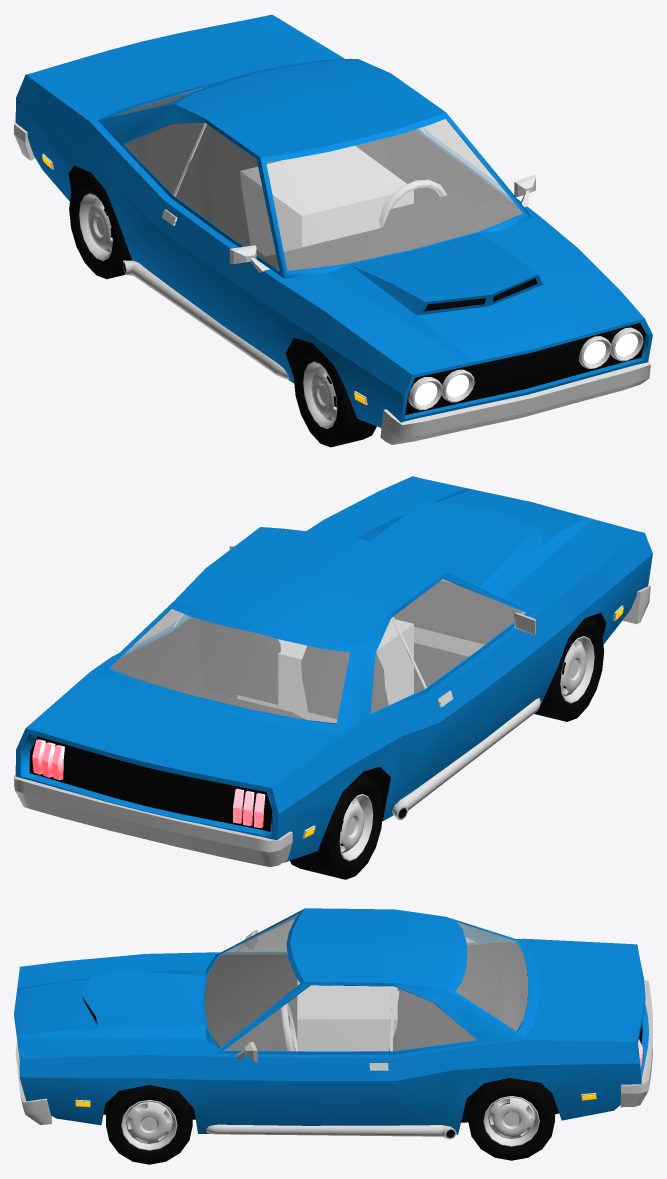
File: car_blue.glb
3 views of the same model, one above another, from view 1: azimuth 30°, elevation 25°; view 2: azimuth 150°, elevation 25°; view 3: azimuth 270°, elevation 25° (orthographic). The views are drawn at different scales.
Visible parts, largest first — view 1: Cube_0, Cube, Cube.001_3, Cube.005_6; view 2: Cube_0, Cube.005_6, Cube, Cube.001_3; view 3: Cube_0, Cube, Cube.002_4, Cube.004_5.
Boxes of the visible parts, x1,y1,x2,y2 form: Cube_0: [14, 14, 652, 444]; Cube: [240, 146, 413, 256]; Cube.001_3: [293, 343, 376, 447]; Cube.005_6: [69, 173, 132, 279]; Cube_0: [14, 476, 652, 866]; Cube.005_6: [290, 774, 383, 879]; Cube: [237, 618, 413, 722]; Cube.001_3: [534, 617, 604, 721]; Cube_0: [14, 908, 652, 1139]; Cube: [297, 980, 399, 1050]; Cube.002_4: [468, 1078, 554, 1160]; Cube.004_5: [106, 1085, 192, 1164].
Bounding box in the file's own units: 5.46 × 3.6 × 12.16.
